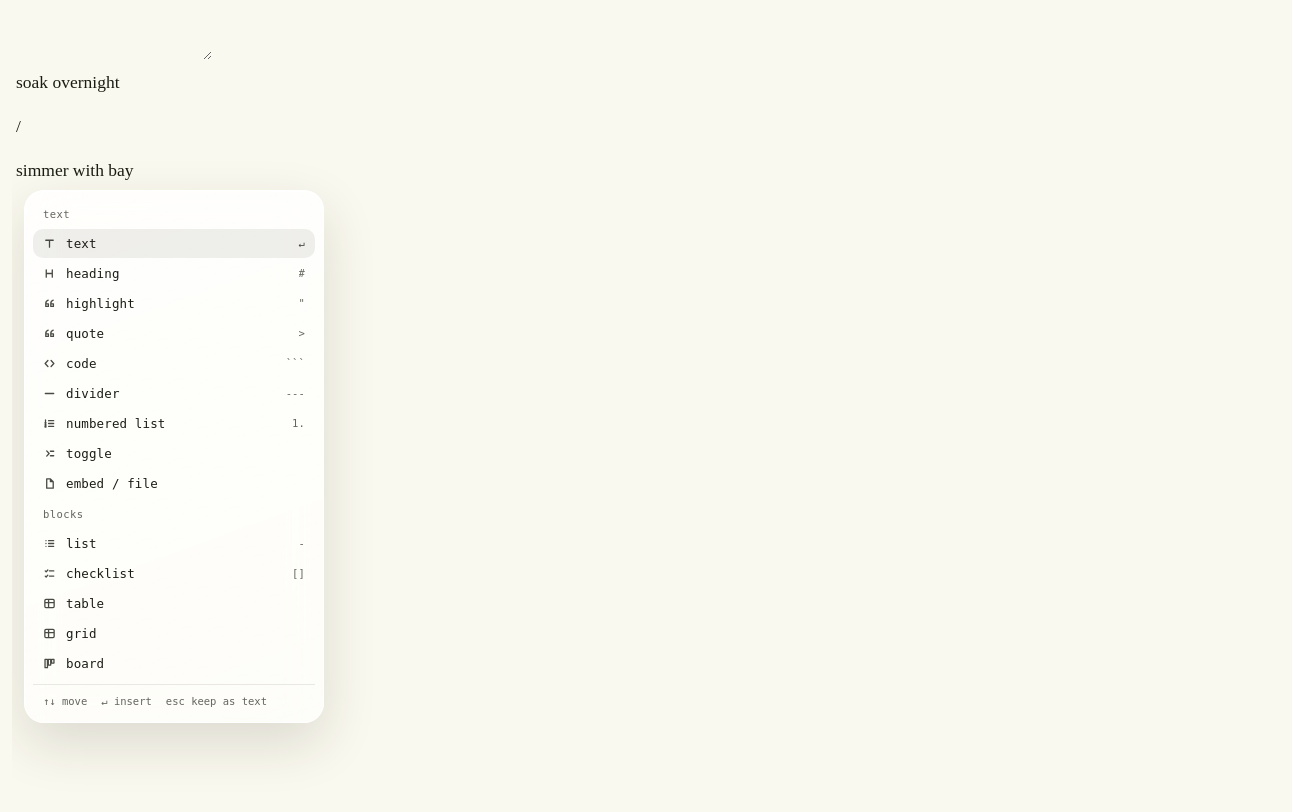
Scenario: `/` on an empty line inside a text block splits it at that line › opens the `/` menu, and a pick lands between the two halves as one change
The width and height of the screenshot is (1292, 812).
Click the option "checklist []": point(100, 573) [43,566,305,580]
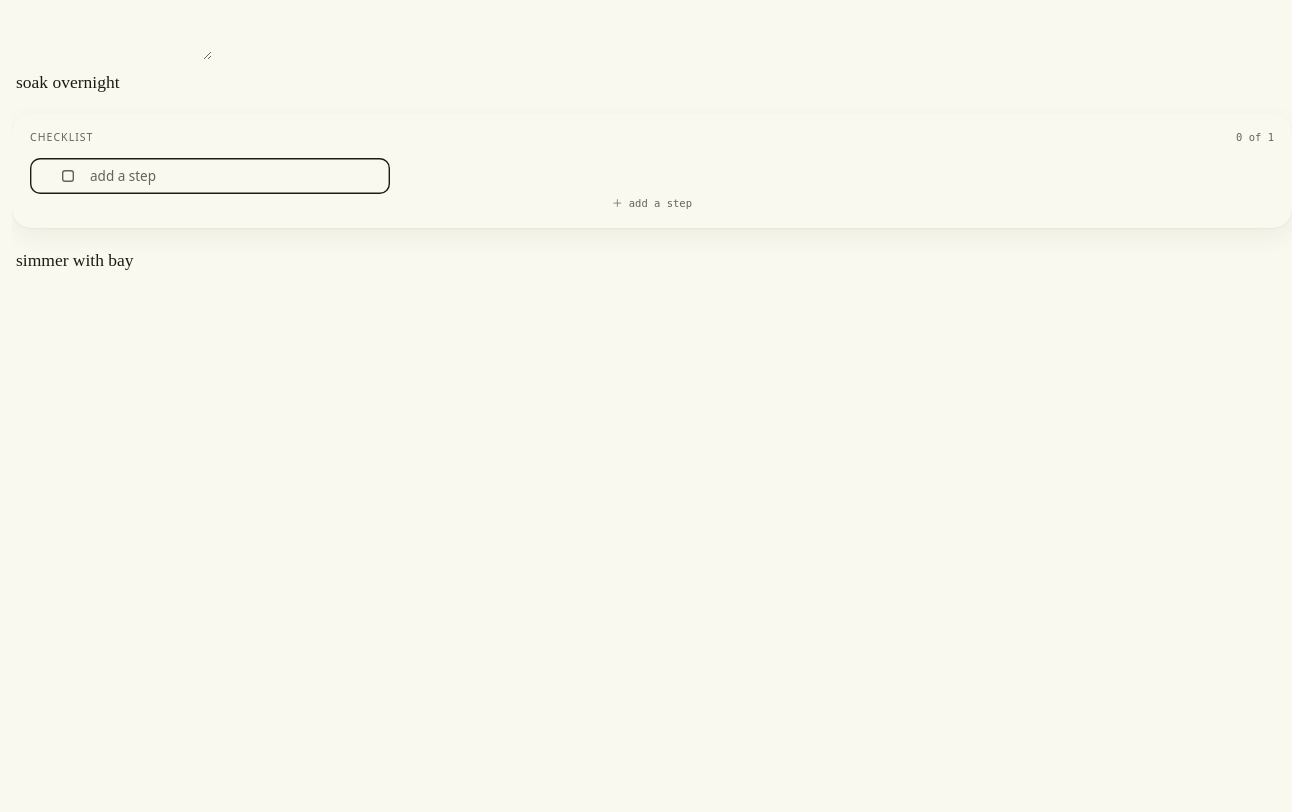
Expected: the field named "text block" reads "soak overnight", [16,72,120,92]
Expected: the list is gone
